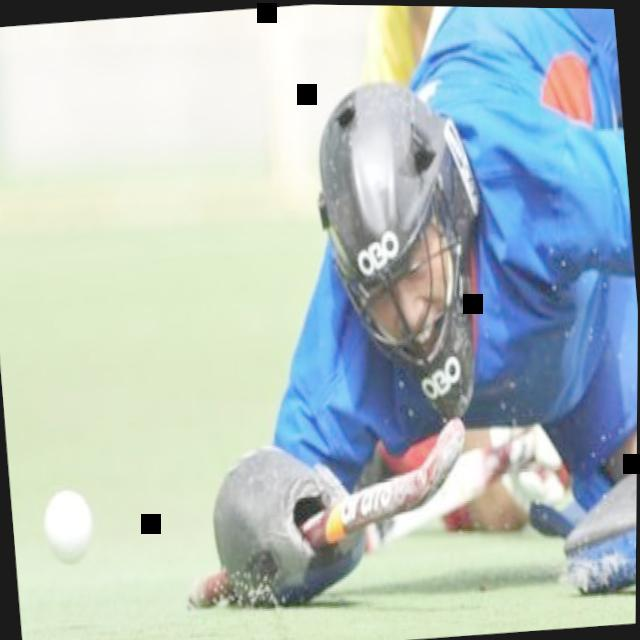Fall-Detected: (226, 3, 640, 603)
